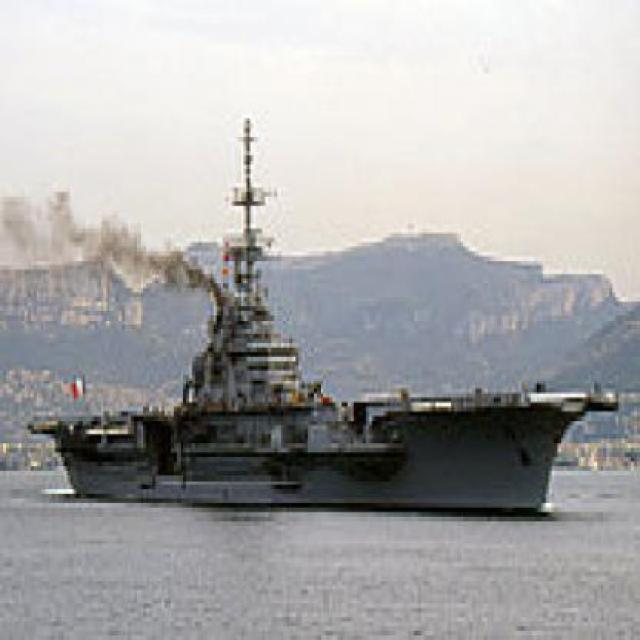warship2: (28, 115, 623, 522)
